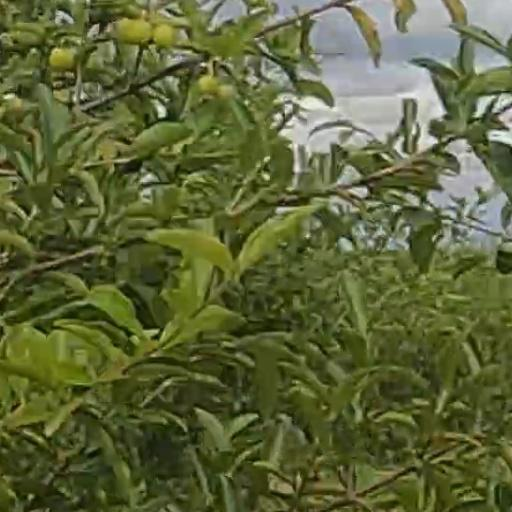acerola_verde: (118, 19, 152, 47), (154, 25, 176, 49)
